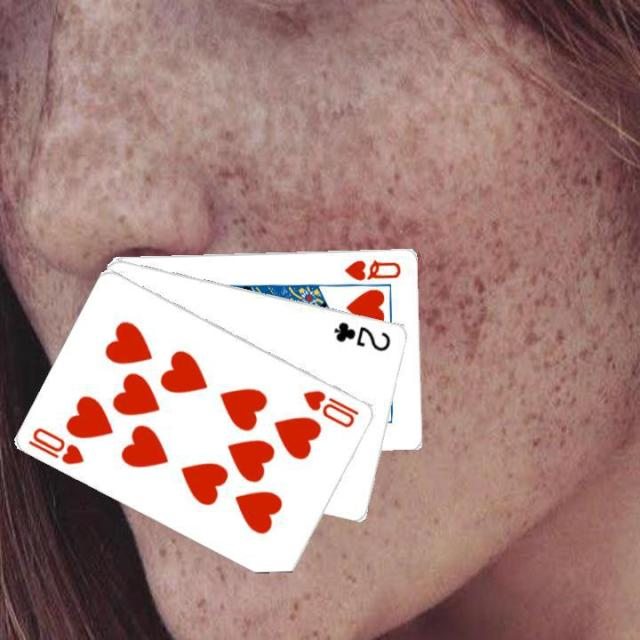10H: (25, 423, 87, 467), (299, 386, 361, 429)
2C: (331, 317, 393, 353)
QH: (342, 255, 404, 282)
